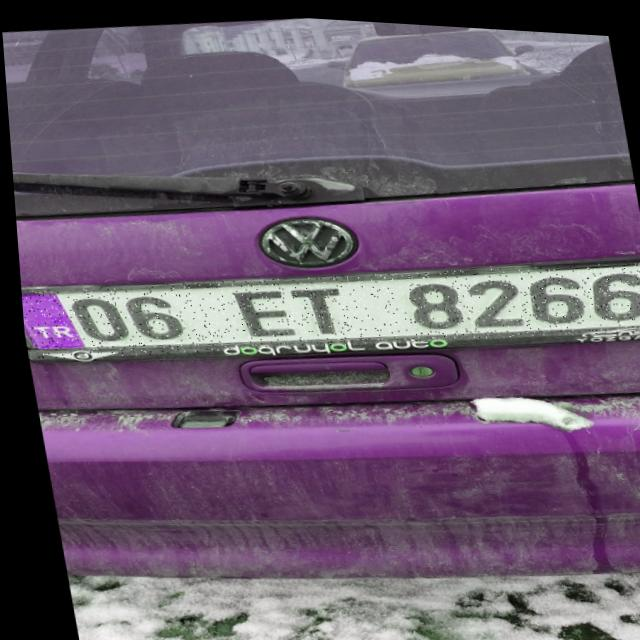license_plate: (13, 223, 640, 389)
